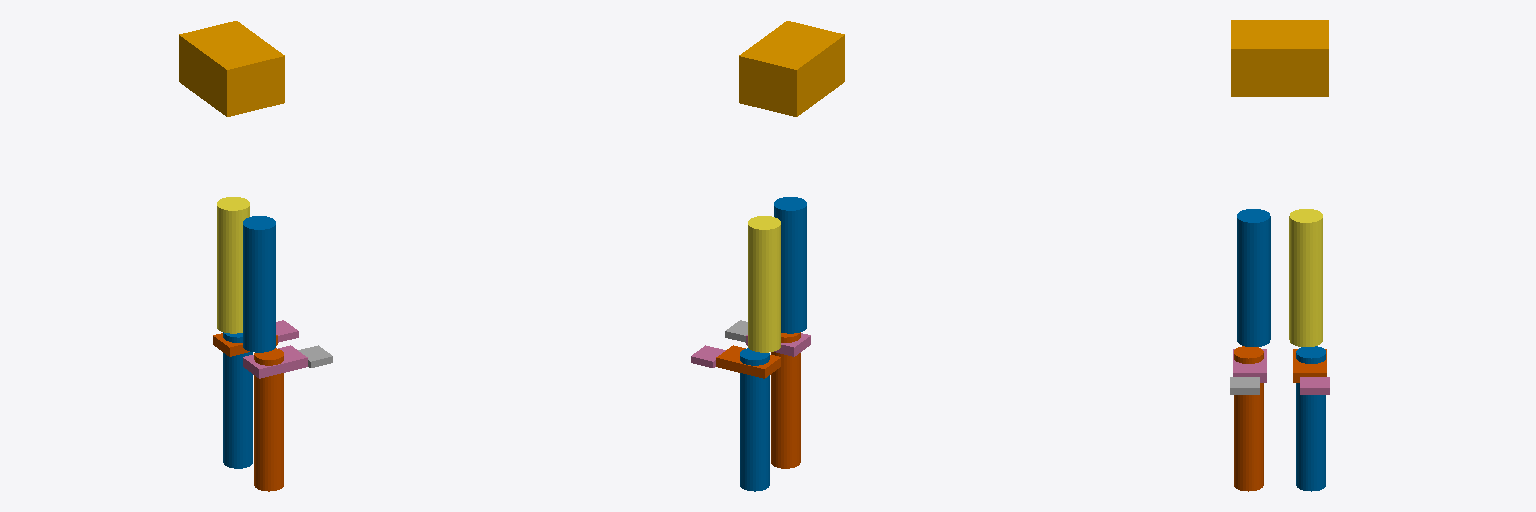
robot.urdf — lyt_14dof:
<?xml version="1.0"?>
<robot name="lyt_14dof">
  <link name="pelvis"><visual><geometry><box size="0.18 0.26 0.14"/></geometry></visual></link>
  <link name="right_hip_flexion"/><link name="right_hip_adduction"/><link name="right_hip"/>
  <link name="right_knee"><visual><origin xyz="0.011 0.004 -0.182"/><geometry><cylinder radius="0.045" length="0.364"/></geometry></visual></link>
  <link name="right_ankle"><visual><origin xyz="0.011 -0.003 -0.194"/><geometry><cylinder radius="0.04" length="0.389"/></geometry></visual></link>
  <link name="right_foot"><visual><origin xyz="0.04 0 -0.014"/><geometry><box size="0.15 0.09 0.028"/></geometry></visual></link>
  <link name="right_toe"><visual><origin xyz="0.035 0 -0.004"/><geometry><box size="0.07 0.08 0.02"/></geometry></visual></link>
  <link name="left_hip_flexion"/><link name="left_hip_adduction"/><link name="left_hip"/>
  <link name="left_knee"><visual><origin xyz="0.011 -0.004 -0.182"/><geometry><cylinder radius="0.045" length="0.364"/></geometry></visual></link>
  <link name="left_ankle"><visual><origin xyz="0.011 0.003 -0.194"/><geometry><cylinder radius="0.04" length="0.389"/></geometry></visual></link>
  <link name="left_foot"><visual><origin xyz="0.04 0 -0.014"/><geometry><box size="0.15 0.09 0.028"/></geometry></visual></link>
  <link name="left_toe"><visual><origin xyz="0.035 0 -0.004"/><geometry><box size="0.07 0.08 0.02"/></geometry></visual></link>
  <joint name="hip_flexion_r" type="revolute"><parent link="pelvis"/><child link="right_hip_flexion"/><origin xyz="0.012032 -0.082674 -0.074584"/><axis xyz="0 -1 0"/><limit lower="-0.223402" upper="0.422369" effort="500" velocity="10"/></joint>
  <joint name="hip_adduction_r" type="revolute"><parent link="right_hip_flexion"/><child link="right_hip_adduction"/><axis xyz="1 0 0"/><limit lower="-0.188496" upper="0.036652" effort="500" velocity="10"/></joint>
  <joint name="hip_rotation_r" type="revolute"><parent link="right_hip_adduction"/><child link="right_hip"/><axis xyz="0 0 1"/><limit lower="-0.148353" upper="0.013963" effort="500" velocity="10"/></joint>
  <joint name="knee_angle_r" type="revolute"><parent link="right_hip"/><child link="right_knee"/><origin xyz="0.021988 0.0085393 -0.3638"/><axis xyz="-0.0270811 -0.997283 0.0685032"/><limit lower="-1.047198" upper="0.209440" effort="1000" velocity="10"/></joint>
  <joint name="ankle_angle_r" type="revolute"><parent link="right_knee"/><child link="right_ankle"/><origin xyz="0.022557 -0.0061213 -0.38882"/><axis xyz="-0.051785 -0.99459 0.090048"/><limit lower="-0.349066" upper="0.785398" effort="500" velocity="10"/></joint>
  <joint name="subtalar_angle_r" type="revolute"><parent link="right_ankle"/><child link="right_foot"/><origin xyz="-0.0086471 0.00034291 -0.015818"/><axis xyz="0.762058 0.313439 0.566589"/><limit lower="-0.261799" upper="0.349066" effort="300" velocity="10"/></joint>
  <joint name="mtp_angle_r" type="revolute"><parent link="right_foot"/><child link="right_toe"/><origin xyz="0.11963 -0.012783 -0.01619"/><axis xyz="-0.375959 -0.926408 -0.02056"/><limit lower="-1" upper="1" effort="300" velocity="10"/></joint>
  <joint name="hip_flexion_l" type="revolute"><parent link="pelvis"/><child link="left_hip_flexion"/><origin xyz="0.012032 0.082674 -0.074584"/><axis xyz="0 -1 0"/><limit lower="-0.223402" upper="0.422369" effort="500" velocity="10"/></joint>
  <joint name="hip_adduction_l" type="revolute"><parent link="left_hip_flexion"/><child link="left_hip_adduction"/><axis xyz="-1 0 0"/><limit lower="-0.188496" upper="0.036652" effort="500" velocity="10"/></joint>
  <joint name="hip_rotation_l" type="revolute"><parent link="left_hip_adduction"/><child link="left_hip"/><axis xyz="0 0 -1"/><limit lower="-0.148353" upper="0.013963" effort="500" velocity="10"/></joint>
  <joint name="knee_angle_l" type="revolute"><parent link="left_hip"/><child link="left_knee"/><origin xyz="0.021988 -0.0085393 -0.3638"/><axis xyz="0.0270811 -0.997283 -0.0685032"/><limit lower="-1.047198" upper="0.209440" effort="1000" velocity="10"/></joint>
  <joint name="ankle_angle_l" type="revolute"><parent link="left_knee"/><child link="left_ankle"/><origin xyz="0.022557 0.0061213 -0.38882"/><axis xyz="0.051785 -0.99459 -0.090048"/><limit lower="-0.349066" upper="0.785398" effort="500" velocity="10"/></joint>
  <joint name="subtalar_angle_l" type="revolute"><parent link="left_ankle"/><child link="left_foot"/><origin xyz="-0.0086471 -0.00034291 -0.015818"/><axis xyz="-0.762058 0.313439 -0.566589"/><limit lower="-0.261799" upper="0.349066" effort="300" velocity="10"/></joint>
  <joint name="mtp_angle_l" type="revolute"><parent link="left_foot"/><child link="left_toe"/><origin xyz="0.11963 0.012783 -0.01619"/><axis xyz="0.375959 -0.926408 0.02056"/><limit lower="-1" upper="1" effort="300" velocity="10"/></joint>
</robot>

--- What the picture shows (computed from the rendered views, not written in the file) ---
Views: 3 orthographic renders of the robot side by side, from view 1: azimuth 30°, elevation 25°; view 2: azimuth 150°, elevation 25°; view 3: azimuth 270°, elevation 25°.
Model lyt_14dof with 15 links and 14 joints (14 revolute), rooted at pelvis, posed all joints at 0.
Links seen in each view (by area): view 1: pelvis, right_knee, right_ankle, left_knee, left_ankle, right_foot; view 2: pelvis, left_knee, left_ankle, right_knee, right_ankle, left_foot; view 3: pelvis, right_knee, left_knee, right_ankle, left_ankle, right_foot, left_foot, right_toe, left_toe.
Link boxes in pixels (x1=…): pelvis: x1=179, y1=21, x2=284, y2=116; right_knee: x1=243, y1=216, x2=275, y2=352; right_ankle: x1=254, y1=348, x2=283, y2=491; left_knee: x1=217, y1=197, x2=249, y2=333; left_ankle: x1=223, y1=332, x2=252, y2=468; right_foot: x1=243, y1=345, x2=307, y2=378; pelvis: x1=739, y1=21, x2=844, y2=116; left_knee: x1=748, y1=216, x2=780, y2=352; left_ankle: x1=740, y1=348, x2=769, y2=491; right_knee: x1=774, y1=197, x2=806, y2=333; right_ankle: x1=771, y1=332, x2=800, y2=468; left_foot: x1=716, y1=345, x2=780, y2=378; pelvis: x1=1231, y1=20, x2=1328, y2=96; right_knee: x1=1237, y1=209, x2=1270, y2=346; left_knee: x1=1289, y1=209, x2=1322, y2=346; right_ankle: x1=1234, y1=346, x2=1263, y2=491; left_ankle: x1=1296, y1=346, x2=1325, y2=491; right_foot: x1=1233, y1=349, x2=1266, y2=382; left_foot: x1=1293, y1=349, x2=1326, y2=382; right_toe: x1=1230, y1=377, x2=1259, y2=394; left_toe: x1=1300, y1=377, x2=1329, y2=394.
Bounding box of the posed robot: 0.3276 × 0.2654 × 1.29 m (x, y, z).
Geometry: primitives only (box / cylinder / sphere), no mesh files.
